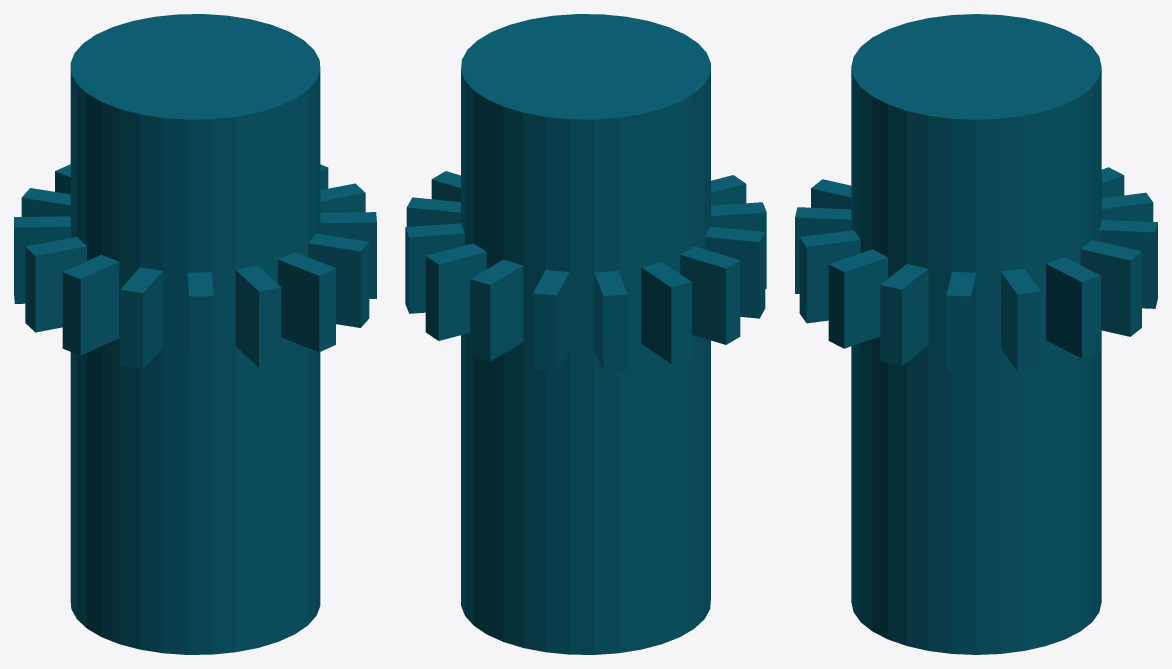
3 views of the same model, side by side, from view 1: azimuth 30°, elevation 25°; view 2: azimuth 150°, elevation 25°; view 3: azimuth 270°, elevation 25° (orthographic).
Parts seen in each view (by area): view 1: Cylinder; view 2: Cylinder; view 3: Cylinder.
Part boxes in pixels (x1,y1,x2,y2): Cylinder: [14, 14, 376, 654]; Cylinder: [405, 14, 766, 654]; Cylinder: [795, 14, 1157, 654].
Size of what is drawn, in the model's own units: 2.9 by 4.72 by 2.9.
